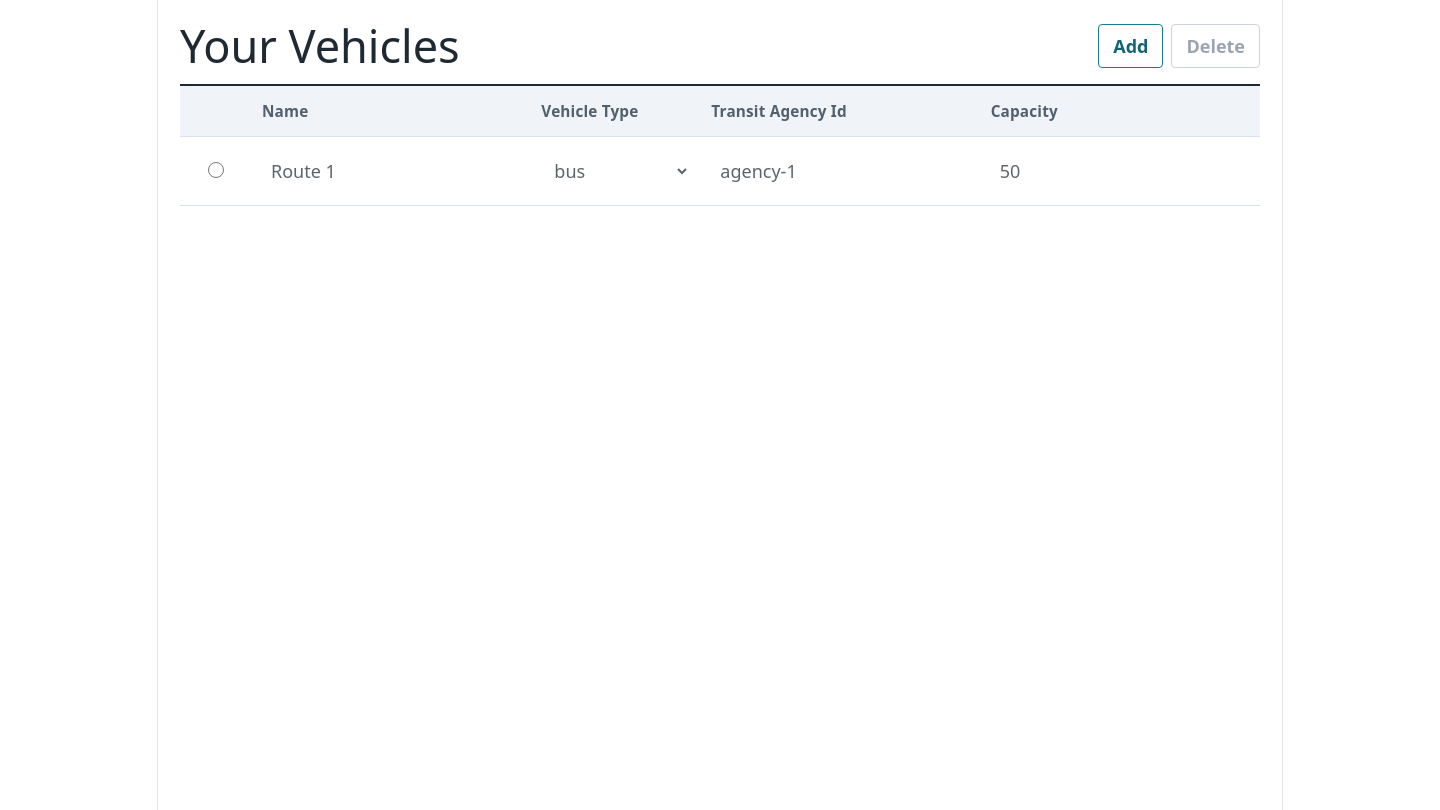
Test case: VehicleList › updates capacity when the vehicle type changes
The width and height of the screenshot is (1440, 810).
Click the row with test id "vehicle-row-vehicle-1": {"x": 720, "y": 171} x1=180 y1=137 x2=1260 y2=206
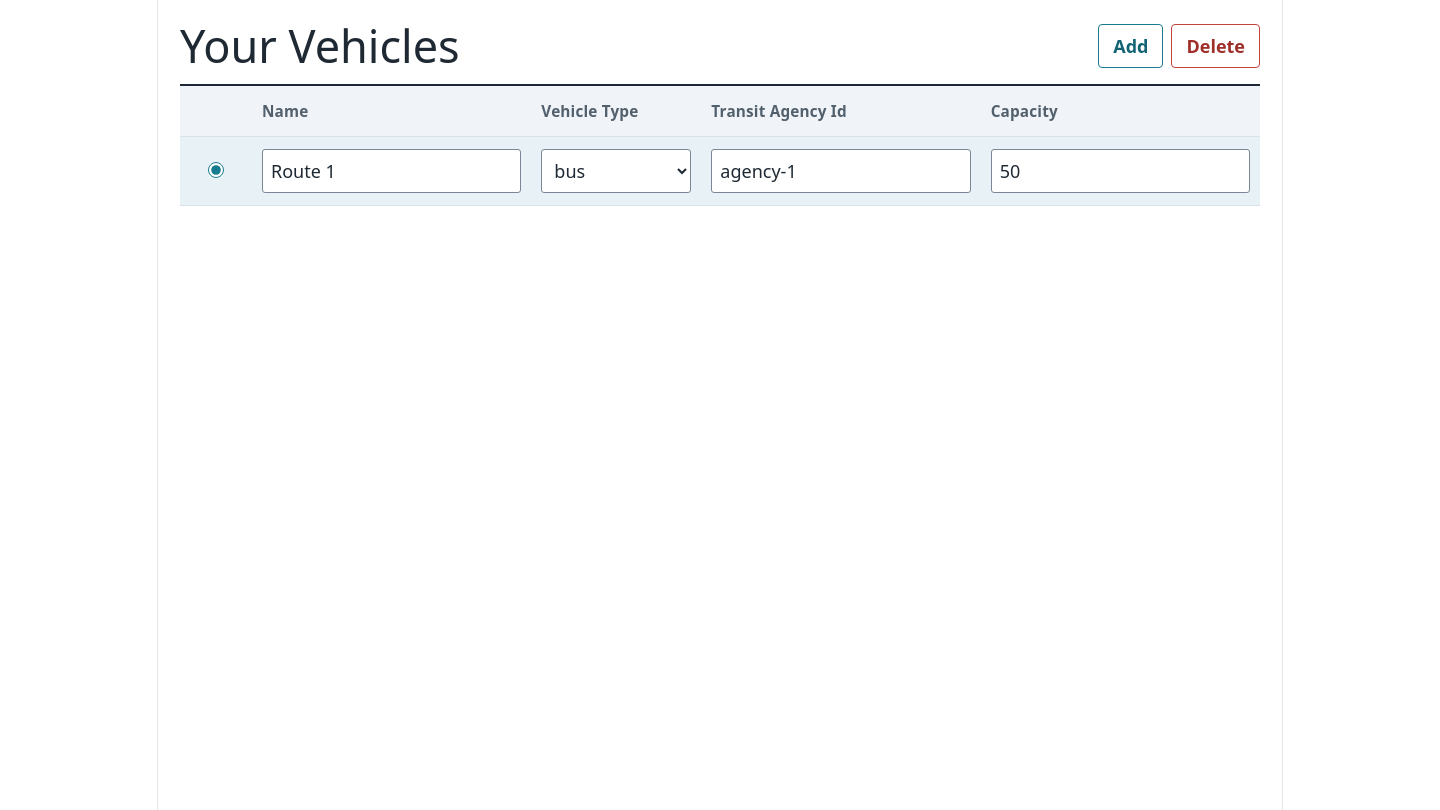
Select "train" in the dropdown with test id "vehicle-vehicle-1-type": {"x": 616, "y": 171} x1=541 y1=149 x2=691 y2=193
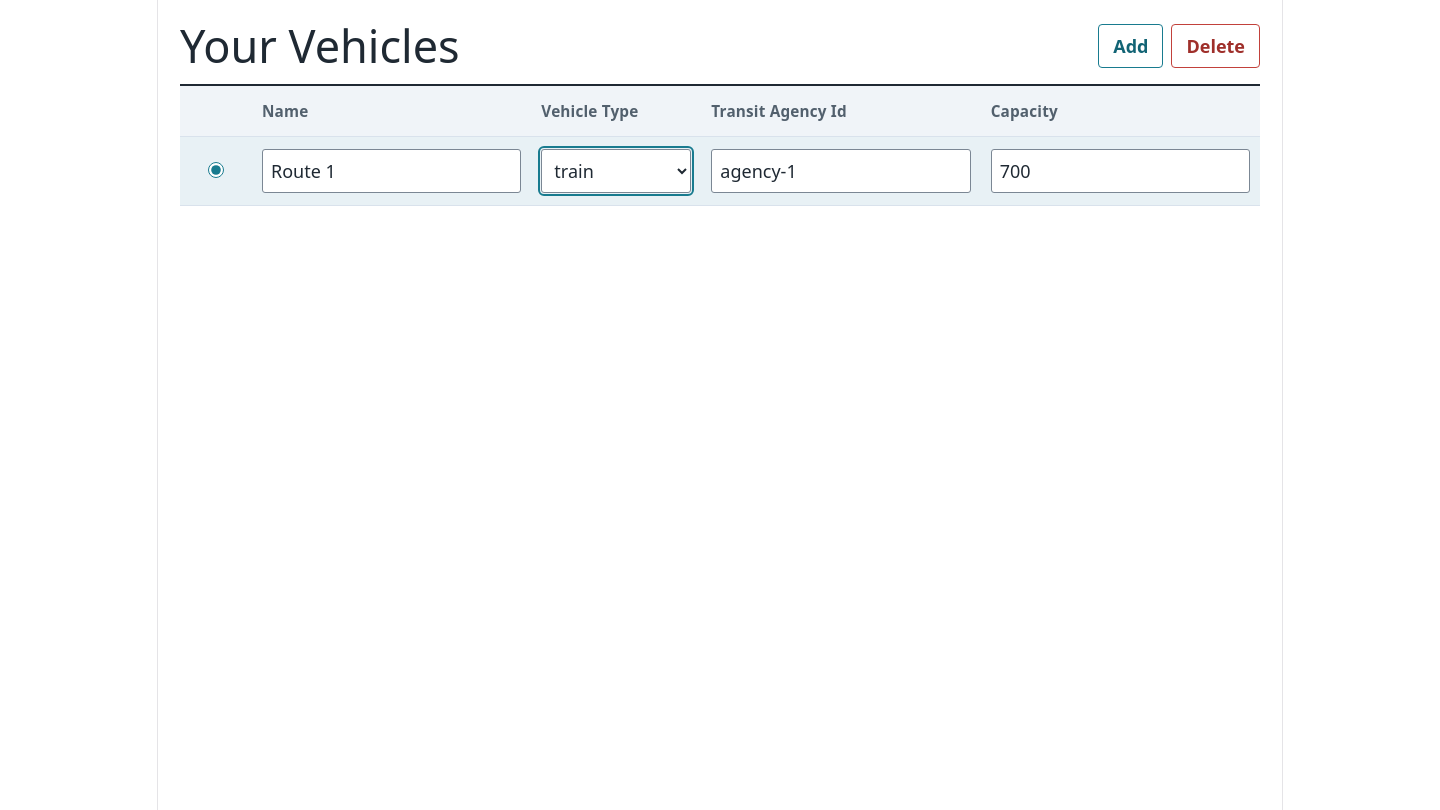
Check: the number field with test id "vehicle-vehicle-1-capacity" holds "700", box x1=991 y1=149 x2=1250 y2=193
